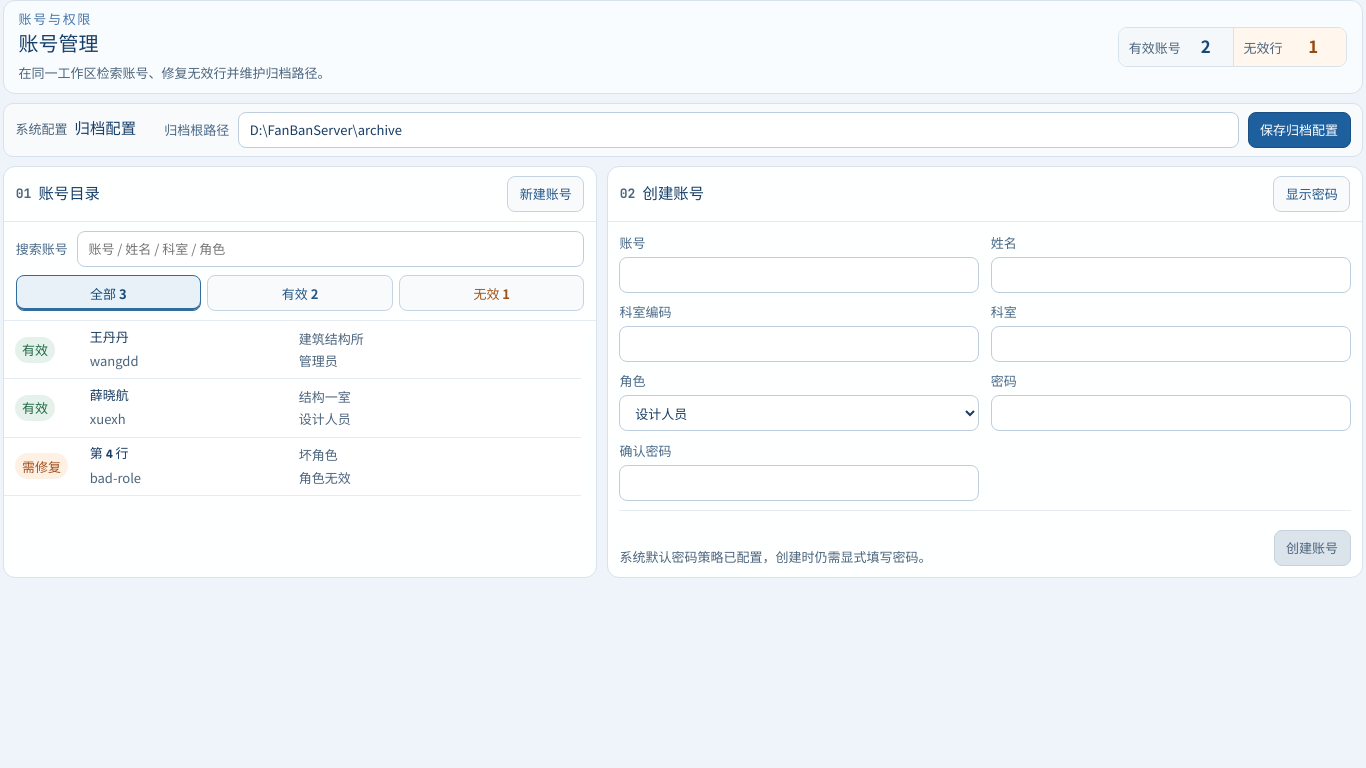
Scenario: AccountAdminPage › selects an active account for editing without exposing its stored password
This screenshot has width=1366, height=768.
Click the button "有效 王丹丹 wangdd 建筑结构所 管理员" at (35, 350), box [4,321,581,379]
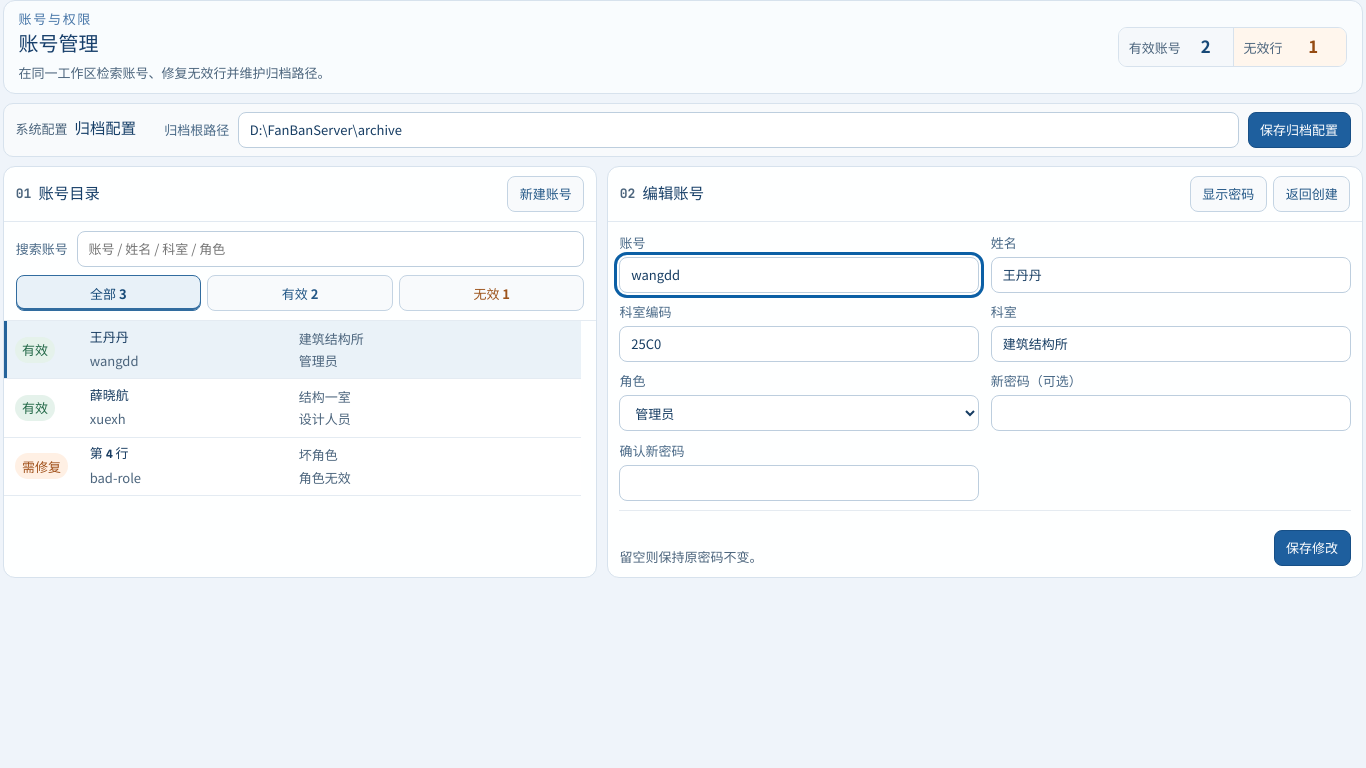
Result: the heading "编辑账号" is shown at [642,182,704,206]
Result: the field labelled "账号" holds "wangdd" at [619,257,979,293]
Result: the text "留空则保持原密码不变。" is shown at [619,548,762,566]
